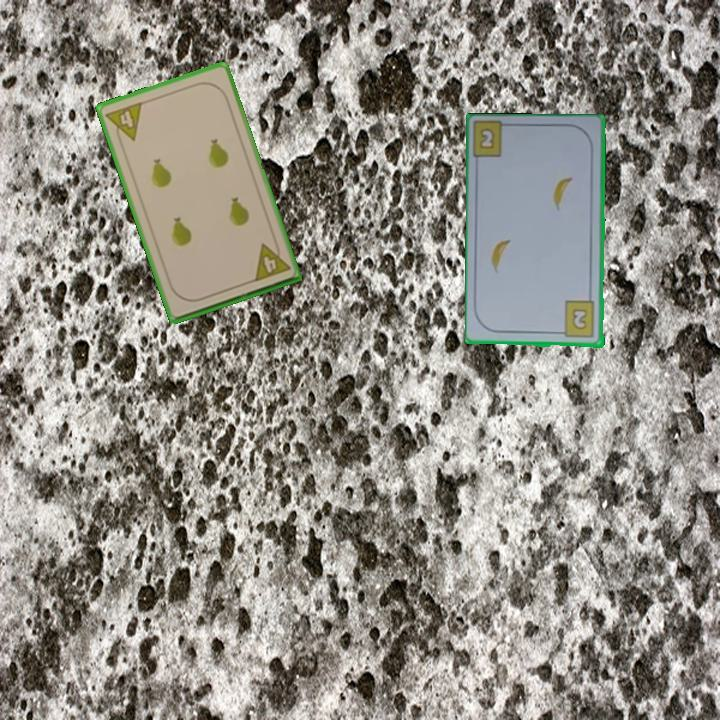2b: (555, 298, 598, 340), (476, 124, 497, 152)
4p: (102, 98, 145, 148), (250, 237, 293, 285)
